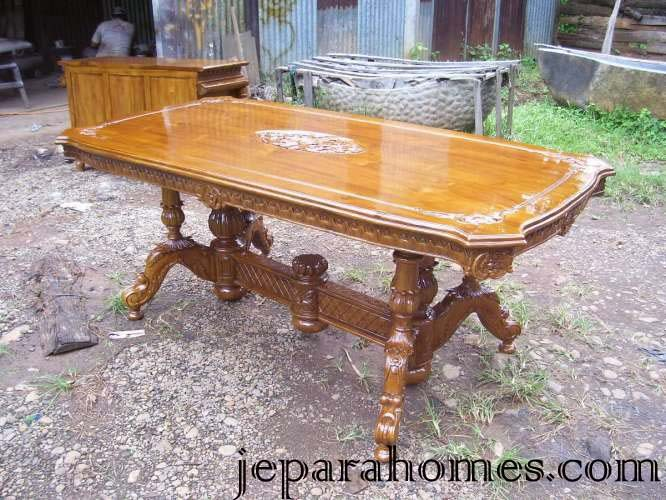Carving Table: (68, 78, 578, 436)
